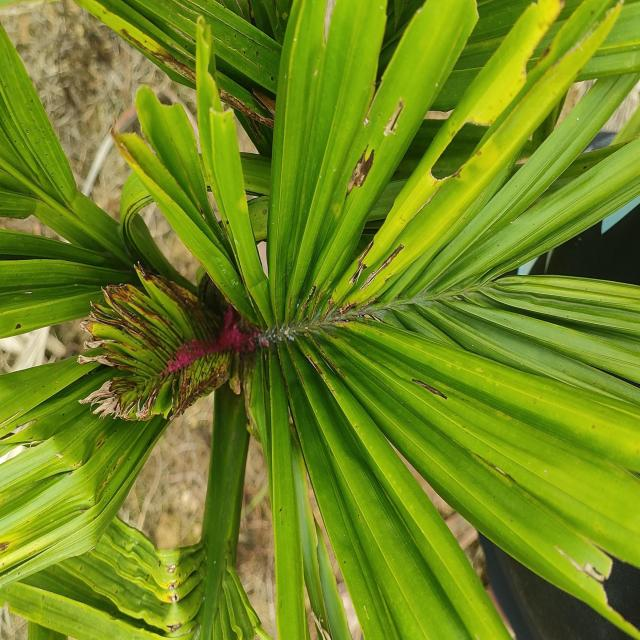Bud_Borer: (57, 187, 532, 528)
